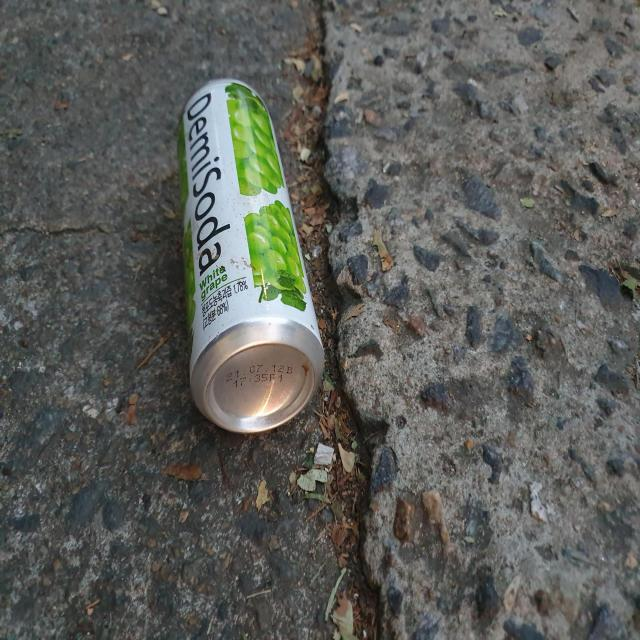can: (178, 79, 324, 432)
